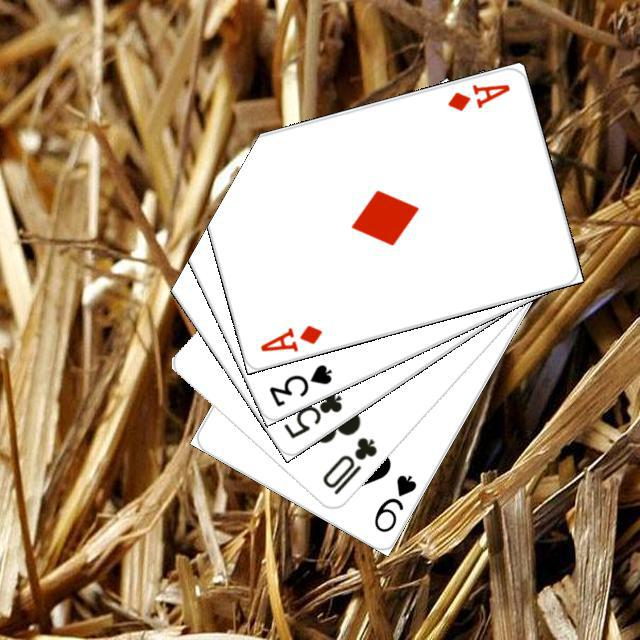10c: (317, 432, 379, 497)
3s: (264, 359, 334, 408)
5c: (278, 386, 344, 441)
9s: (369, 469, 419, 534)
Ad: (255, 320, 324, 354), (443, 79, 512, 113)
